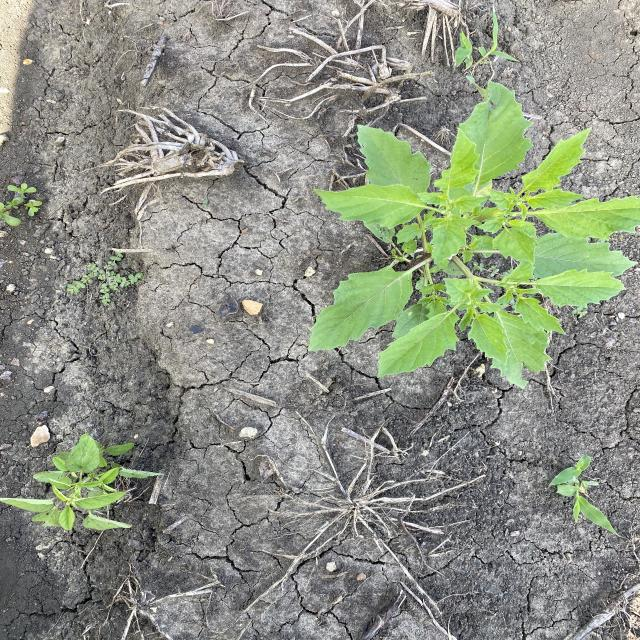CutleafGroundcherry: (304, 78, 639, 382)
PricklySida: (5, 430, 167, 534)
Purslane: (2, 183, 46, 232)
SpottedSpurge: (60, 249, 146, 308)
